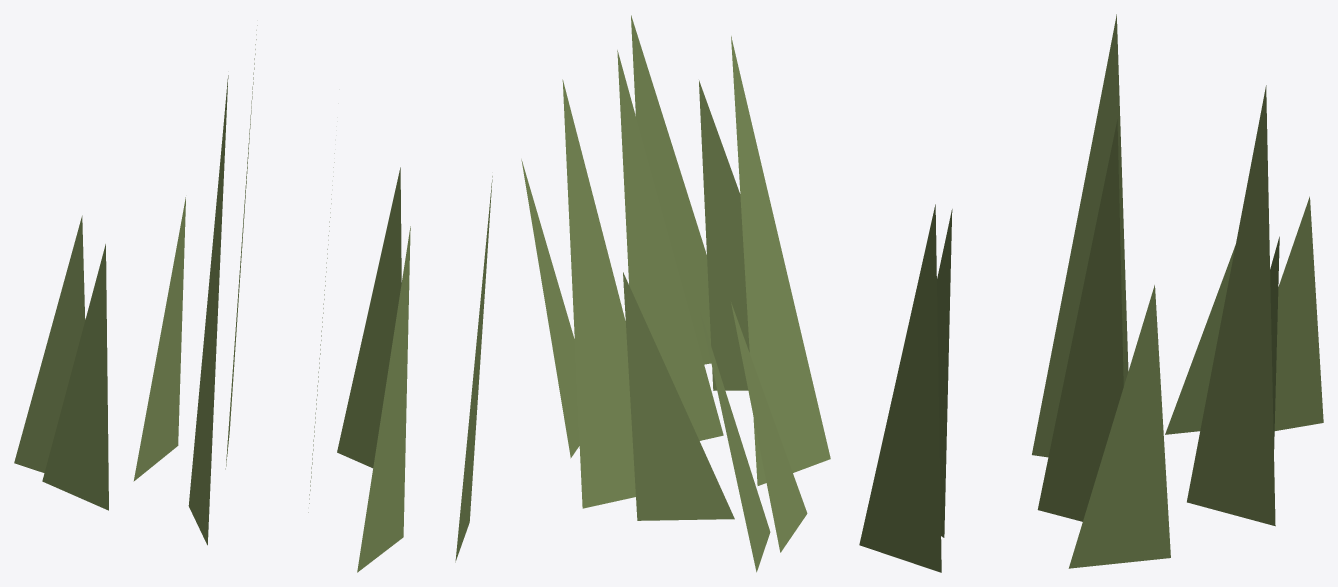
The model's file is grass.glb.
The picture shows the model from 3 angles, left to right: view 1: azimuth 30°, elevation 25°; view 2: azimuth 150°, elevation 25°; view 3: azimuth 270°, elevation 25°; orthographic projection. The views are drawn at different scales.
Parts seen in each view (by area): view 1: grass_leaf_1; view 2: grass_leaf_1; view 3: grass_leaf_1.
Boxes of the visible parts, <box> form: grass_leaf_1: <box>14,25,492,572</box>; grass_leaf_1: <box>521,15,830,572</box>; grass_leaf_1: <box>859,14,1323,572</box>.
Bounding box in the file's own units: 0.3337 × 0.4456 × 0.3966.
